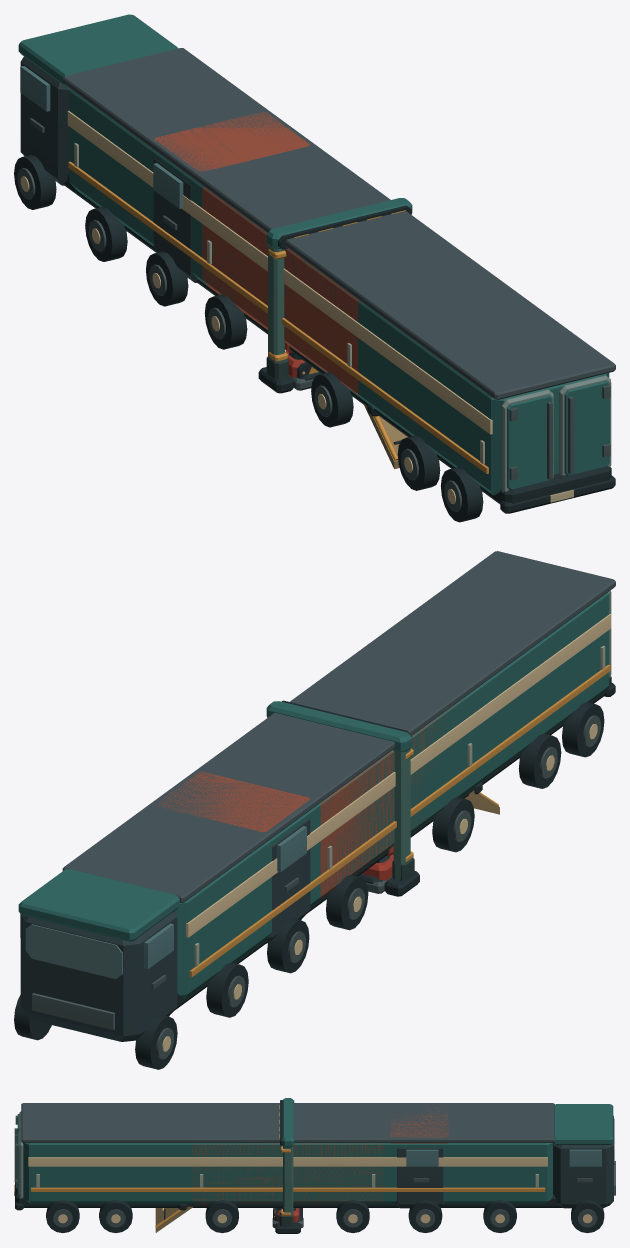
The model's file is obstacle-kit.glb.
3 renders of one model, top to bottom at view 1: azimuth 30°, elevation 25°; view 2: azimuth 150°, elevation 25°; view 3: azimuth 270°, elevation 25°, orthographic. The views are drawn at different scales.
Parts seen in each view (by area): view 1: TruckLong, TruckShort, OilGate, TruckRamp; view 2: TruckLong, TruckShort, OilGate; view 3: TruckLong, TruckShort, OilGate, TruckRamp, Alarm.
Boxes of the visible parts, x1,y1,x2,y2 form: TruckLong: [14, 14, 615, 522]; TruckShort: [146, 112, 479, 427]; OilGate: [258, 198, 412, 393]; TruckRamp: [363, 403, 407, 469]; TruckLong: [14, 551, 615, 1069]; TruckShort: [155, 648, 482, 973]; OilGate: [266, 700, 419, 896]; TruckLong: [14, 1103, 615, 1233]; TruckShort: [178, 1103, 448, 1233]; OilGate: [275, 1098, 300, 1233]; TruckRamp: [155, 1206, 193, 1232]; Alarm: [272, 1208, 303, 1228].
Size of the model in its own units: 2.31 by 2.48 by 13.63.
